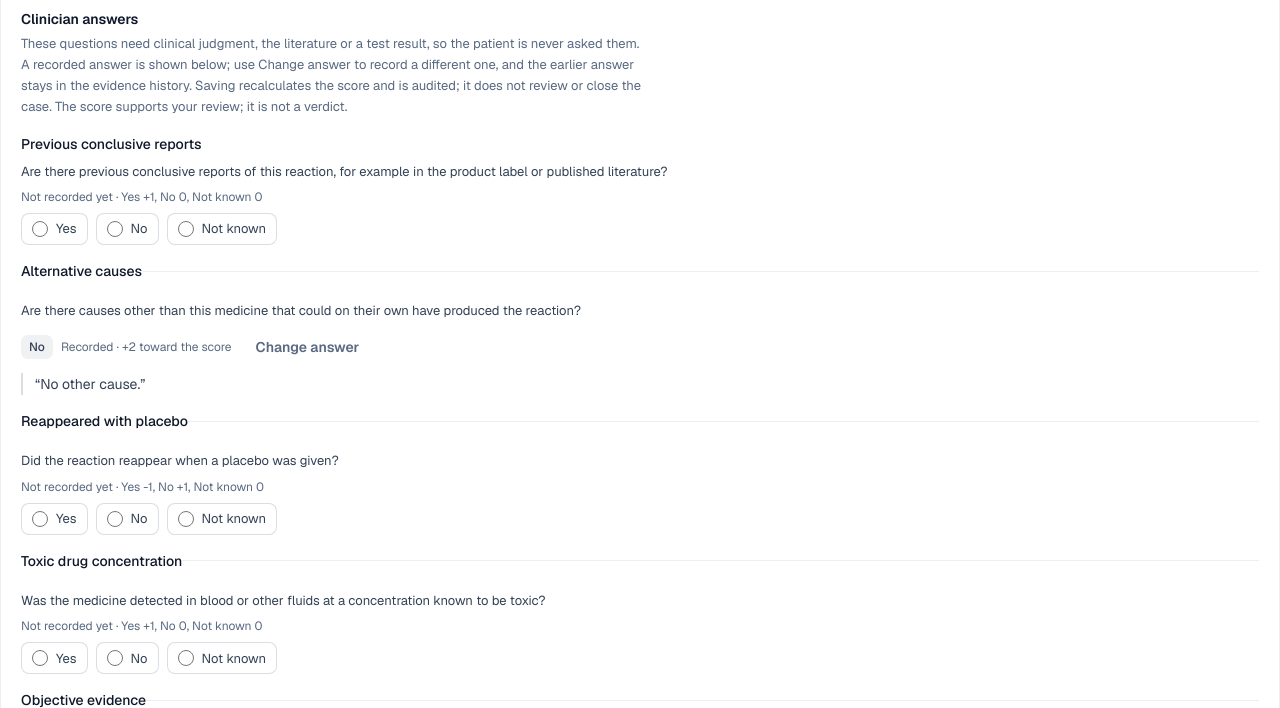
Test: ADR clinician answers (PV-001-D) › changes a recorded answer only on request and sends just that question
The width and height of the screenshot is (1280, 708).
Click the button "Change answer": (307, 346) [240,328,375,364]
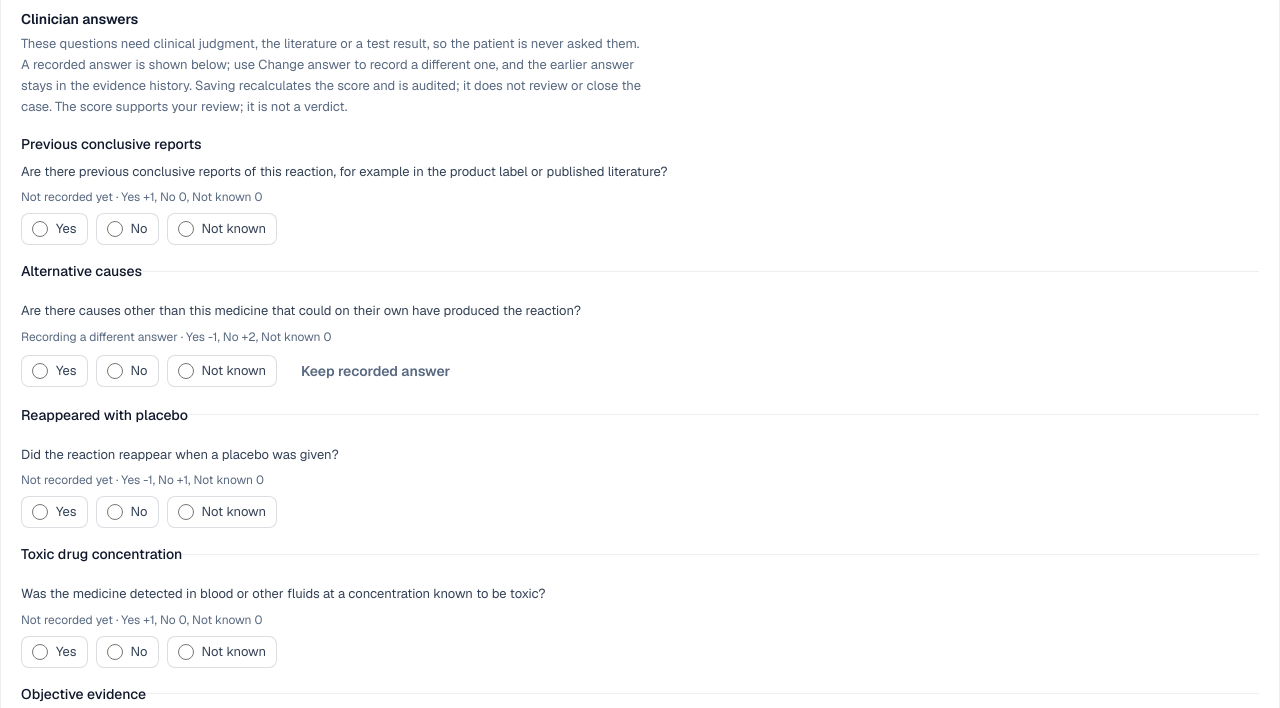
expect the text "Recording a different answer · Yes -1, No +2, Not known 0" is shown: met, box [21,328,332,344]
Click the radio button labelled "Yes" below "Recording a different answer": (40, 370) [32,362,48,378]
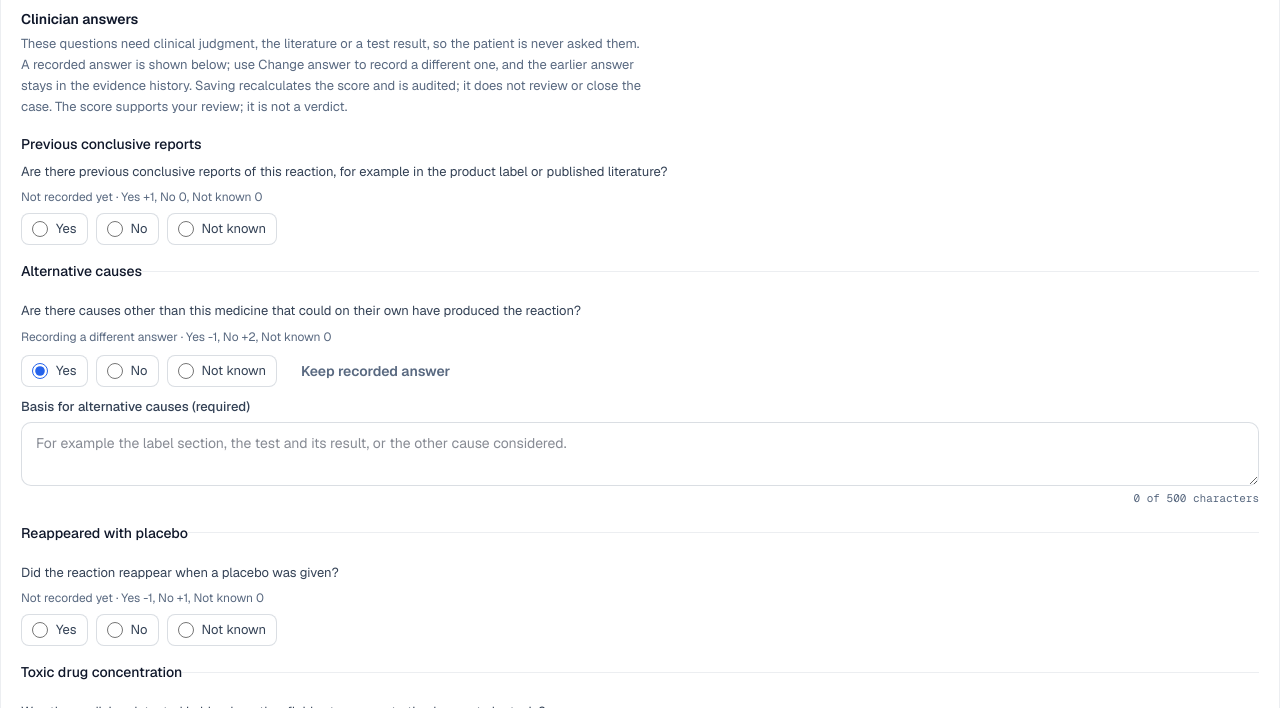
Replace the text in the text box labelled "Basis for alternative causes (required) 0 of 500 characters" with "A new medicine was started.": (640, 454) [21,422,1259,486]
(page scrolled)
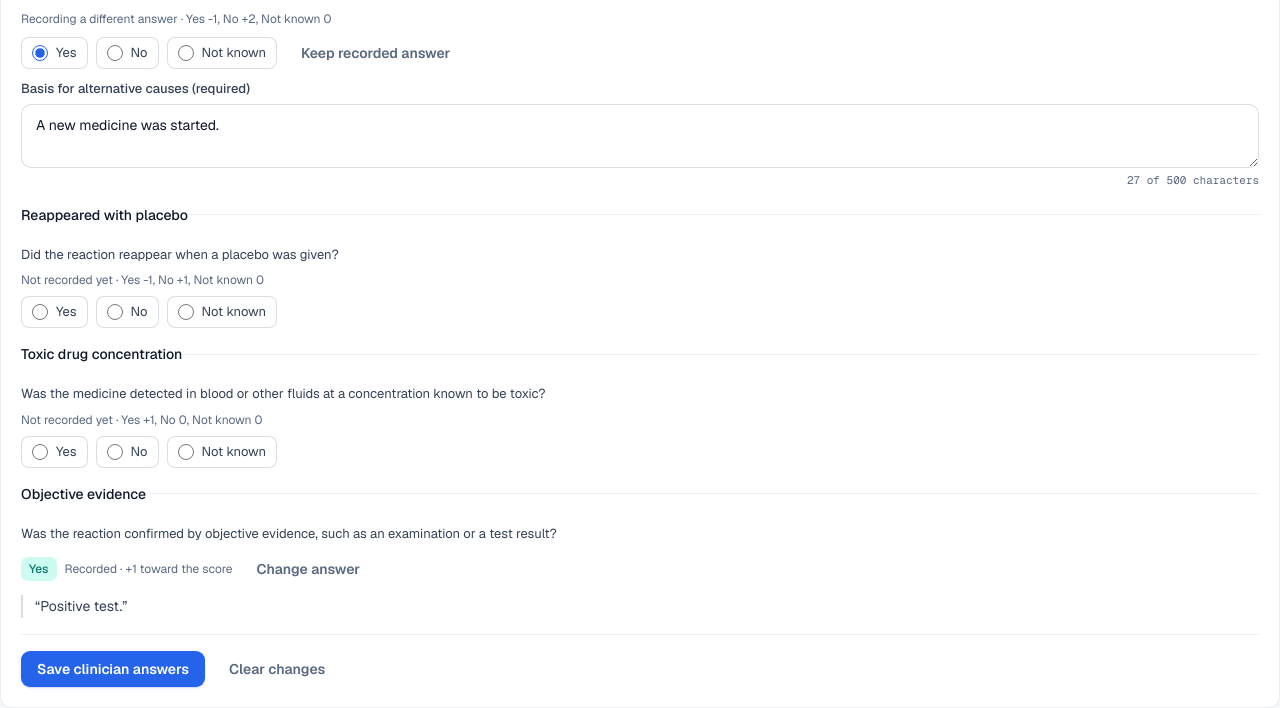
Click the button "Save clinician answers": (113, 669) [21,651,205,687]
(page scrolled)
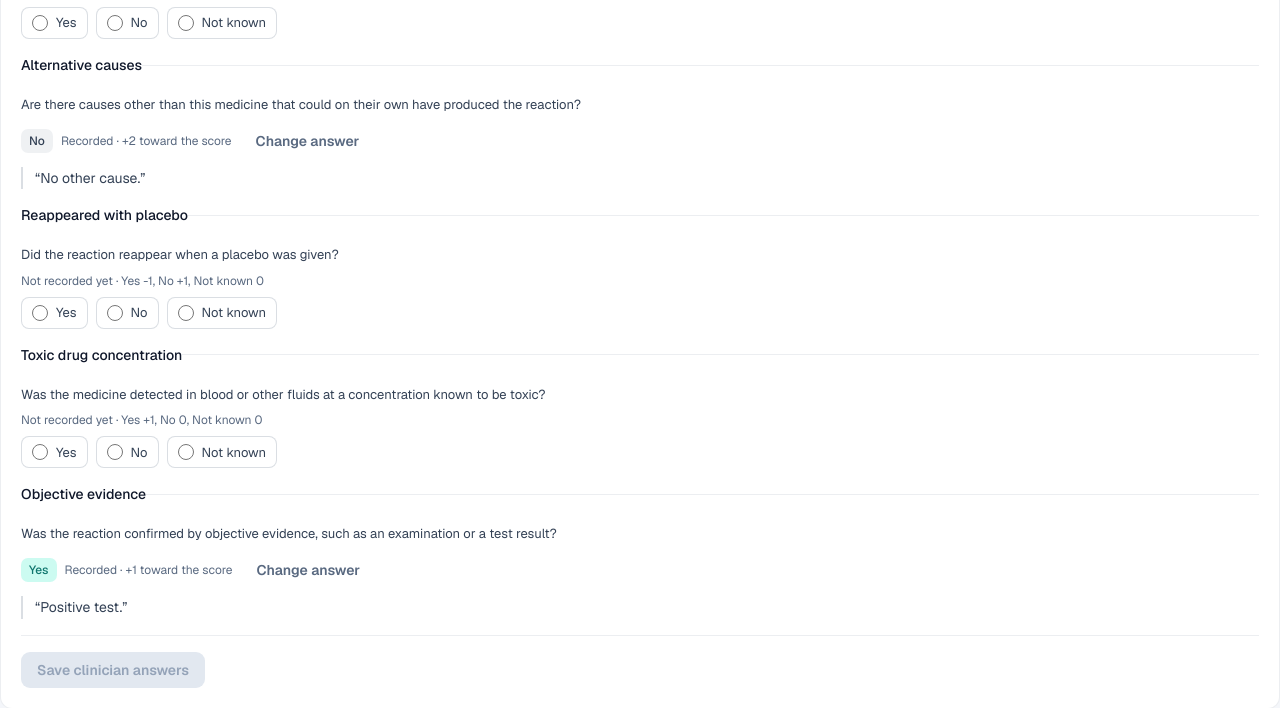
expect the button "Change answer" in the row of "+2" is enabled: met, box [240,122,375,158]
expect the button "Save clinician answers" is disabled: met, box [21,652,205,688]
